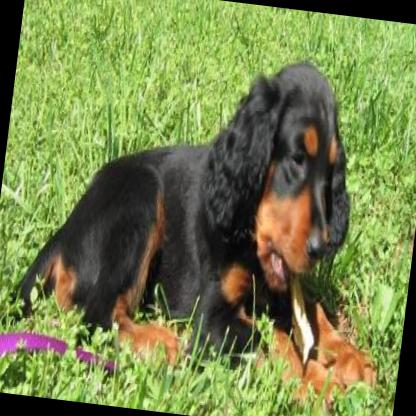Gordon_setter: (1, 22, 416, 414)
